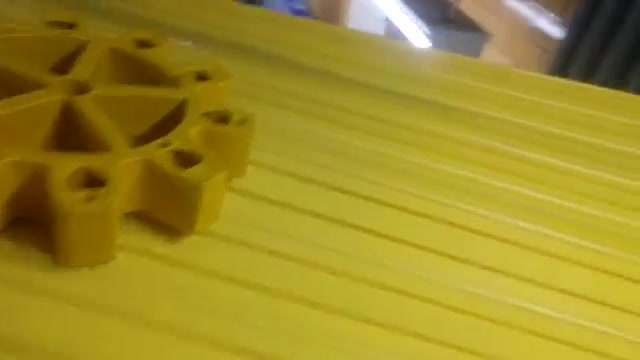gear: (3, 15, 264, 264)
